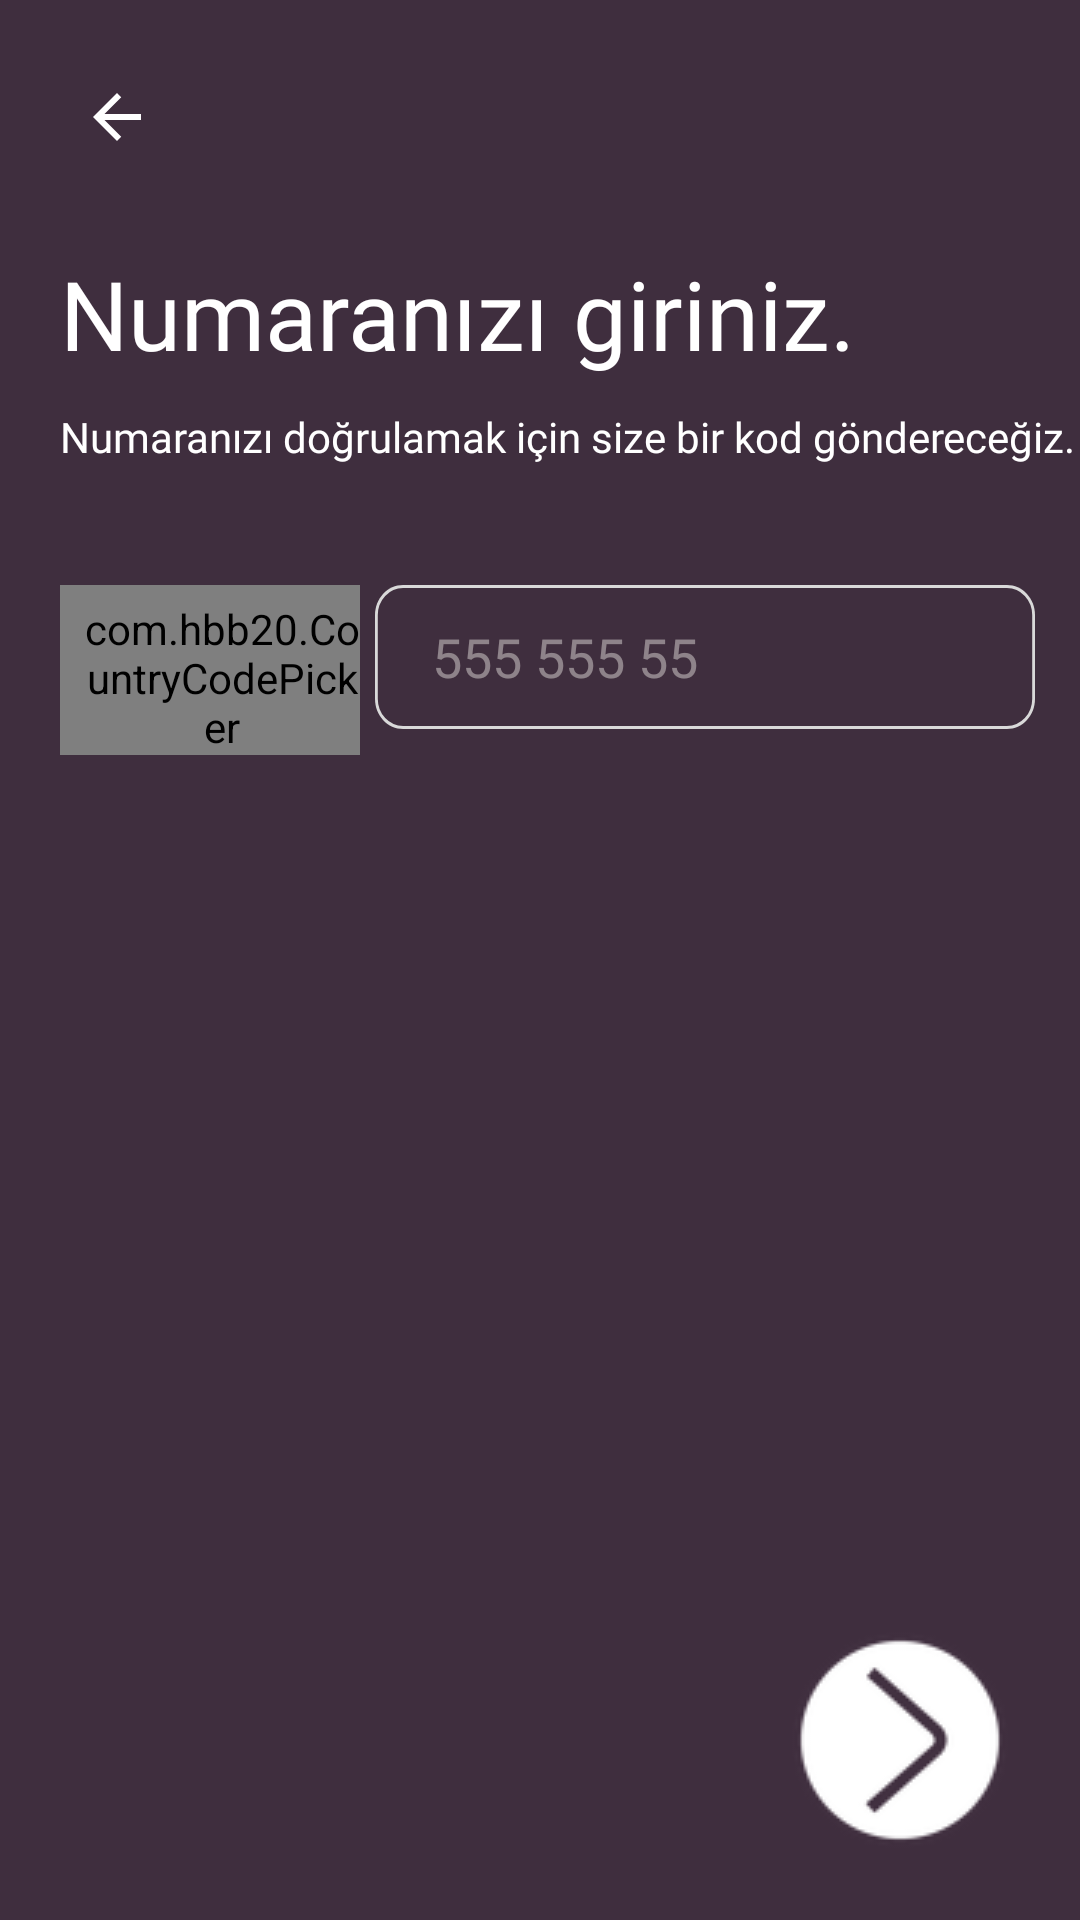

Locate icon controls on the screen. Image size 1080x1920, boxes as {"left": x1, "top": y1, "right": x2, "bottom": y2}.
Geri: {"left": 93, "top": 93, "right": 141, "bottom": 141}
İleri Git: {"left": 800, "top": 1640, "right": 1000, "bottom": 1840}
